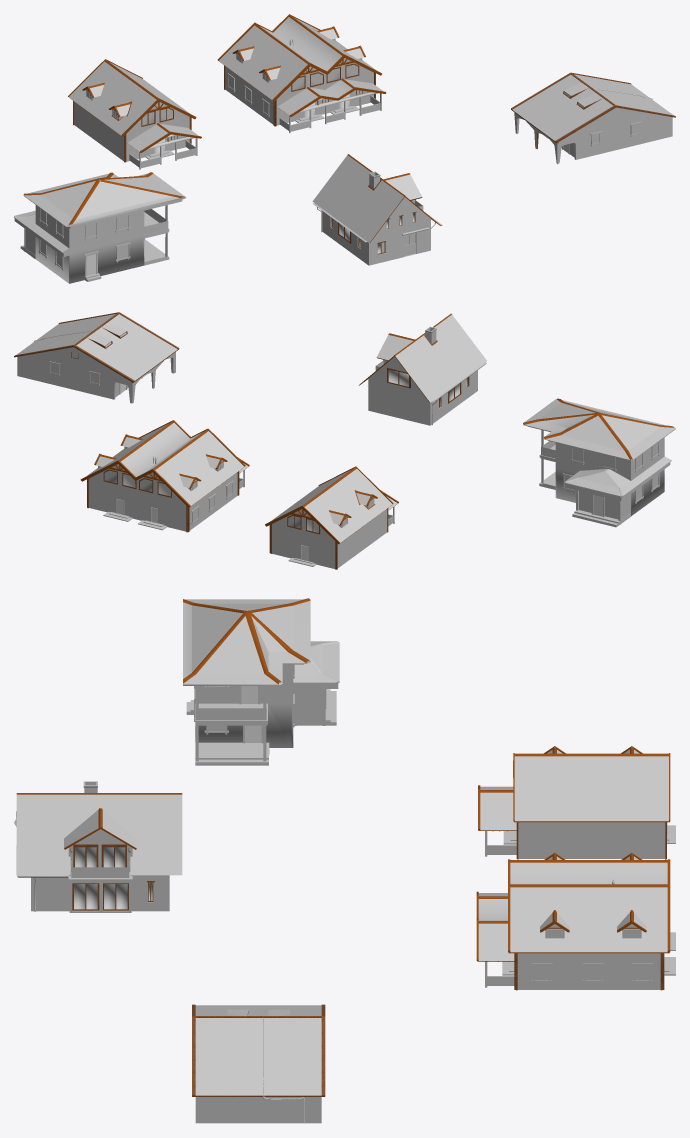
The model's file is House 1.fbx.
3 views of the same model, one above another, from view 1: azimuth 30°, elevation 25°; view 2: azimuth 150°, elevation 25°; view 3: azimuth 270°, elevation 25° (orthographic). The views are drawn at different scales.
Parts seen in each view (by area): view 1: polySurface521, polySurface358, polySurface246, polySurface545, polySurface468, polySurface208, polySurface473, polySurface417, polySurface210, polySurface359, polySurface227, polySurface360 (+1 smaller); view 2: polySurface521, polySurface358, polySurface246, polySurface417, polySurface468, polySurface208, polySurface210, polySurface473, polySurface545, polySurface360, polySurface373, polySurface485 (+1 smaller); view 3: polySurface521, polySurface358, polySurface208, polySurface246, polySurface468, polySurface210, polySurface417, polySurface545, polySurface473, polySurface359, polySurface360, polySurface261.001 (+6 smaller).
Boxes of the visible parts, x1,y1,x2,y2 form: polySurface521: (511, 72, 675, 164); polySurface358: (217, 14, 381, 101); polySurface246: (23, 172, 186, 228); polySurface545: (35, 205, 169, 283); polySurface468: (312, 154, 440, 242); polySurface208: (68, 59, 196, 136); polySurface473: (321, 197, 430, 265); polySurface417: (224, 58, 375, 126); polySurface210: (73, 101, 191, 162); polySurface359: (277, 78, 386, 116); polySurface227: (127, 123, 201, 152); polySurface360: (14, 210, 69, 256); polySurface521: (14, 312, 179, 403); polySurface358: (80, 420, 245, 507); polySurface246: (523, 398, 675, 460); polySurface417: (87, 464, 239, 532); polySurface468: (359, 313, 486, 402); polySurface208: (265, 466, 393, 544); polySurface210: (269, 508, 388, 569); polySurface473: (368, 357, 477, 425); polySurface545: (539, 437, 664, 516); polySurface360: (565, 456, 671, 500); polySurface373: (579, 490, 630, 519); polySurface485: (376, 333, 415, 360); polySurface521: (192, 1004, 325, 1123); polySurface358: (508, 859, 670, 953); polySurface208: (513, 753, 670, 822); polySurface246: (183, 598, 310, 685); polySurface468: (16, 793, 182, 875); polySurface210: (516, 822, 666, 859); polySurface417: (514, 953, 664, 990); polySurface545: (195, 664, 293, 747); polySurface473: (31, 875, 169, 911); polySurface359: (476, 891, 514, 961); polySurface360: (293, 641, 339, 688); polySurface261.001: (195, 742, 269, 765).
Bounding box in the file's own units: 6674 × 833 × 4280.
